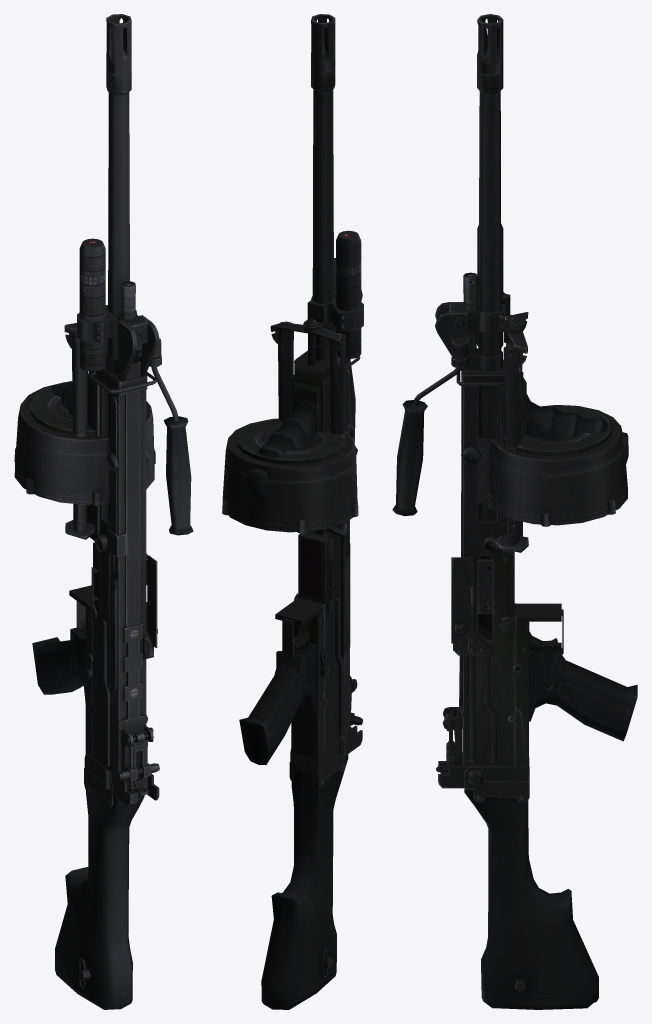
Rendered from Ultimax-100.obj.
3 renders of one model, left to right at view 1: azimuth 30°, elevation 25°; view 2: azimuth 150°, elevation 25°; view 3: azimuth 270°, elevation 25°, orthographic. The views are drawn at different scales.
Parts seen in each view (by area): view 1: Body, Magazine, Model_Light; view 2: Body, Magazine, Model_Light; view 3: Body, Magazine, Model_Light.
Part boxes in pixels (x1,y1,x2,y2): Body: (32, 14, 193, 1009); Magazine: (14, 382, 155, 505); Model_Light: (77, 238, 117, 371); Body: (239, 14, 362, 1009); Magazine: (222, 418, 358, 533); Model_Light: (329, 230, 363, 358); Body: (392, 14, 637, 1009); Magazine: (462, 405, 627, 526); Model_Light: (477, 223, 510, 347).
Bounding box in the file's own units: 0.1384 × 1.02 × 0.2317.
Materials: 2 (2 with a texture image).
